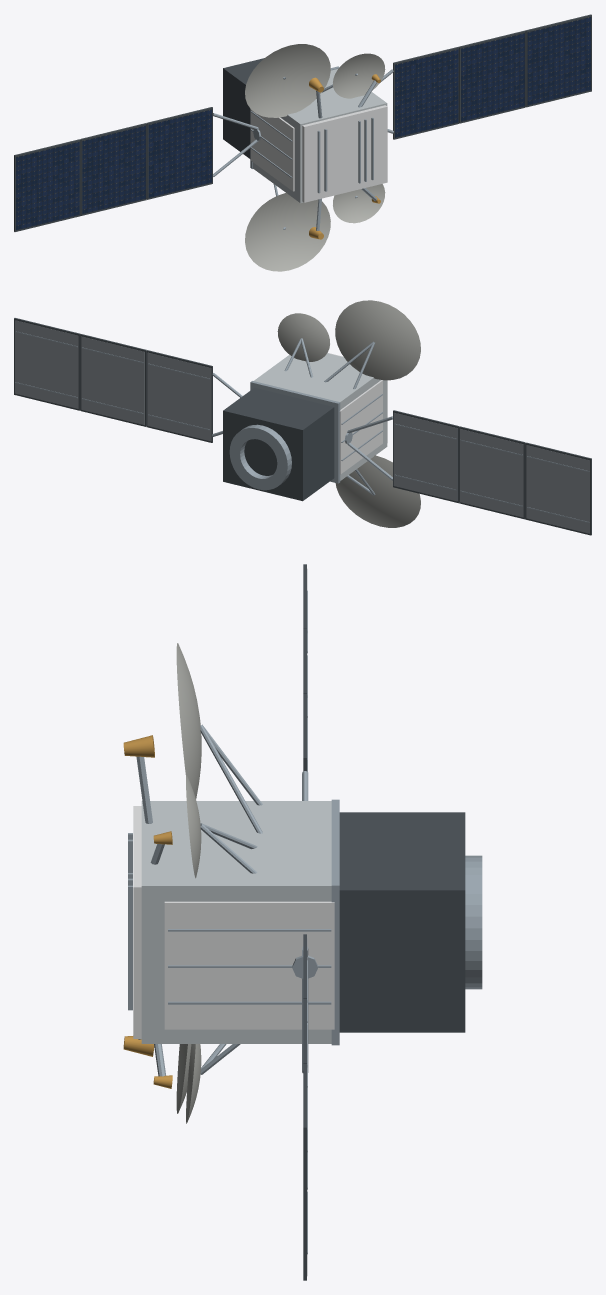
The model's file is ref-ds-2000-27516.glb.
The picture shows the model from 3 angles, top to bottom: view 1: azimuth 30°, elevation 25°; view 2: azimuth 150°, elevation 25°; view 3: azimuth 270°, elevation 25°; orthographic projection. The views are drawn at different scales.
Visible parts, largest first — view 1: Solar cell panel (×6), Communications reflector (×4), Earth-facing deck, Solar panel frame (×6), Payload module, Radiator face, Service module; view 2: Rear array substrate (×6), Communications reflector (×3), Service module, Payload module, Solar panel frame (×6), Radiator face, Launch adapter ring, Module interface; view 3: Service module, Payload module, Radiator face, Communications reflector (×2), Launch adapter ring, Earth-facing deck, Module interface.
Boxes of the visible parts, left/top/right/bottom form: Solar cell panel (×6): left=16, top=17, right=591, bottom=230; Communications reflector (×4): left=245, top=44, right=385, bottom=271; Earth-facing deck: left=302, top=105, right=387, bottom=202; Solar panel frame (×6): left=14, top=14, right=591, bottom=231; Payload module: left=253, top=69, right=387, bottom=203; Radiator face: left=250, top=109, right=294, bottom=191; Service module: left=223, top=58, right=264, bottom=158; Rear array substrate (×6): left=15, top=320, right=589, bottom=533; Communications reflector (×3): left=277, top=300, right=420, bottom=527; Service module: left=223, top=387, right=334, bottom=501; Payload module: left=254, top=353, right=387, bottom=480; Solar panel frame (×6): left=14, top=318, right=591, bottom=535; Radiator face: left=339, top=380, right=382, bottom=474; Launch adapter ring: left=229, top=424, right=291, bottom=490; Module interface: left=250, top=381, right=340, bottom=483; Service module: left=339, top=812, right=465, bottom=1032; Payload module: left=141, top=801, right=331, bottom=1043; Radiator face: left=164, top=901, right=334, bottom=1029; Communications reflector (×2): left=176, top=643, right=201, bottom=878; Launch adapter ring: left=465, top=855, right=482, bottom=989; Earth-facing deck: left=133, top=806, right=141, bottom=1038; Module interface: left=331, top=799, right=339, bottom=1045.
Size of the model in its own units: 25.27 by 9.41 by 6.8.
8 materials, 1 textured.
